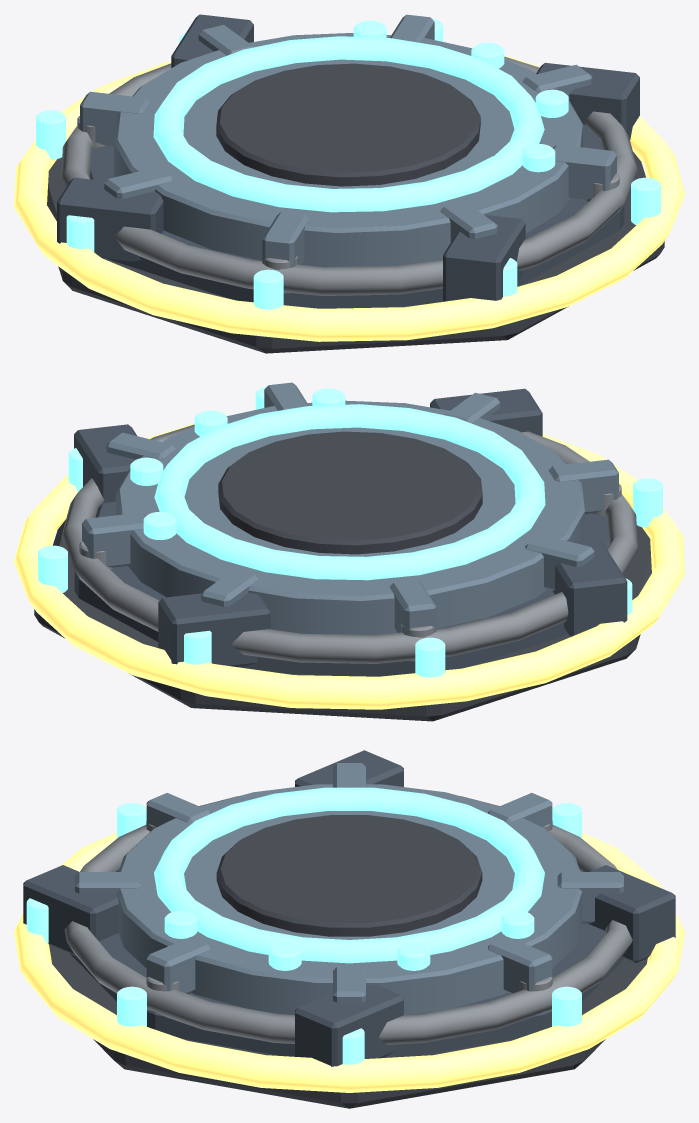
File: gun_base_l4.glb
3 views of the same model, one above another, from view 1: azimuth 30°, elevation 25°; view 2: azimuth 150°, elevation 25°; view 3: azimuth 270°, elevation 25° (orthographic).
Visible parts, largest first — view 1: Cylinder.002, Torus.002, Cylinder.003, Torus.001, Torus, Cylinder, Cylinder.001, Cube.010, Cube.011, Cube.008, Cube.007, Cube.003 (+15 smaller); view 2: Cylinder.002, Torus.002, Cylinder.003, Torus.001, Torus, Cylinder, Cylinder.001, Cube.009, Cube.010, Cube.008, Cube.001, Cube.011 (+16 smaller); view 3: Cylinder.002, Torus.002, Cylinder.003, Torus.001, Torus, Cylinder, Cylinder.001, Cube.008, Cube.011, Cube.009, Cube.001, Cube.007 (+17 smaller).
Boxes of the visible parts, left/top/right/bottom form: Cylinder.002: left=114, top=33, right=582, bottom=267; Torus.002: left=14, top=55, right=684, bottom=341; Cylinder.003: left=216, top=63, right=480, bottom=186; Torus.001: left=153, top=36, right=544, bottom=212; Torus: left=61, top=56, right=637, bottom=295; Cylinder: left=47, top=152, right=664, bottom=353; Cylinder.001: left=90, top=124, right=624, bottom=308; Cube.010: left=57, top=177, right=163, bottom=261; Cube.011: left=443, top=215, right=525, bottom=301; Cube.008: left=536, top=62, right=639, bottom=139; Cube.007: left=553, top=144, right=616, bottom=199; Cube.003: left=80, top=91, right=150, bottom=146; Cylinder.002: left=116, top=400, right=584, bottom=634; Torus.002: left=14, top=423, right=684, bottom=709; Cylinder.003: left=218, top=431, right=482, bottom=554; Torus.001: left=154, top=404, right=545, bottom=580; Torus: left=61, top=424, right=637, bottom=663; Cylinder: left=34, top=519, right=651, bottom=721; Cylinder.001: left=74, top=501, right=608, bottom=676; Cube.009: left=158, top=592, right=270, bottom=666; Cube.010: left=553, top=539, right=627, bottom=636; Cube.008: left=74, top=424, right=137, bottom=502; Cube.001: left=82, top=512, right=145, bottom=567; Cube.011: left=430, top=388, right=542, bottom=436; Cylinder.002: left=116, top=784, right=583, bottom=1015; Torus.002: left=14, top=832, right=684, bottom=1092; Cylinder.003: left=216, top=815, right=482, bottom=936; Torus.001: left=154, top=787, right=544, bottom=963; Torus: left=64, top=796, right=632, bottom=1044; Cylinder: left=49, top=945, right=647, bottom=1108; Cylinder.001: left=69, top=923, right=624, bottom=1057; Cube.008: left=295, top=985, right=403, bottom=1066; Cube.011: left=23, top=865, right=118, bottom=956; Cube.009: left=588, top=865, right=675, bottom=962; Cube.001: left=488, top=937, right=552, bottom=993; Cube.007: left=146, top=937, right=210, bottom=993.
Size of the model in its own units: 2.22 by 0.4 by 2.22.
